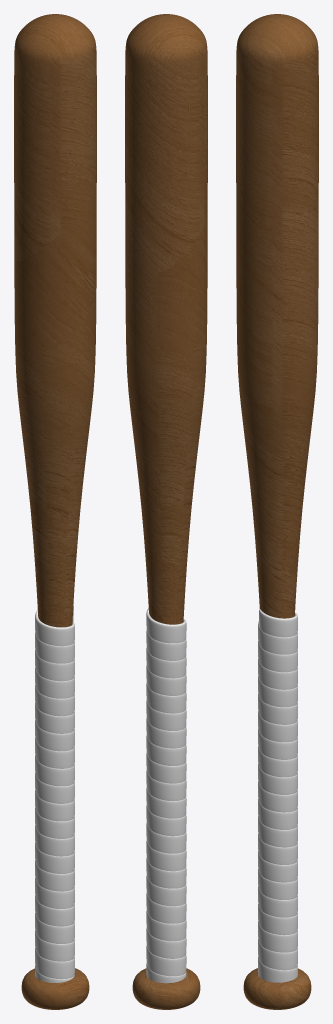
Rendered from bat2.fbx.
3 renders of one model, left to right at view 1: azimuth 90°, elevation 25°; view 2: azimuth 150°, elevation 25°; view 3: azimuth 270°, elevation 25°, orthographic.
Visible parts, largest first — view 1: Circle, Plane; view 2: Circle, Plane; view 3: Circle, Plane.
Part boxes in pixels (box(x1,y1,x2,y2)): Circle: box(14, 14, 96, 1009); Plane: box(35, 605, 74, 982); Circle: box(125, 14, 207, 1009); Plane: box(146, 608, 186, 983); Circle: box(236, 14, 318, 1009); Plane: box(258, 609, 297, 982).
Bounding box in the file's own units: 0.0642 × 0.8404 × 0.0642.
